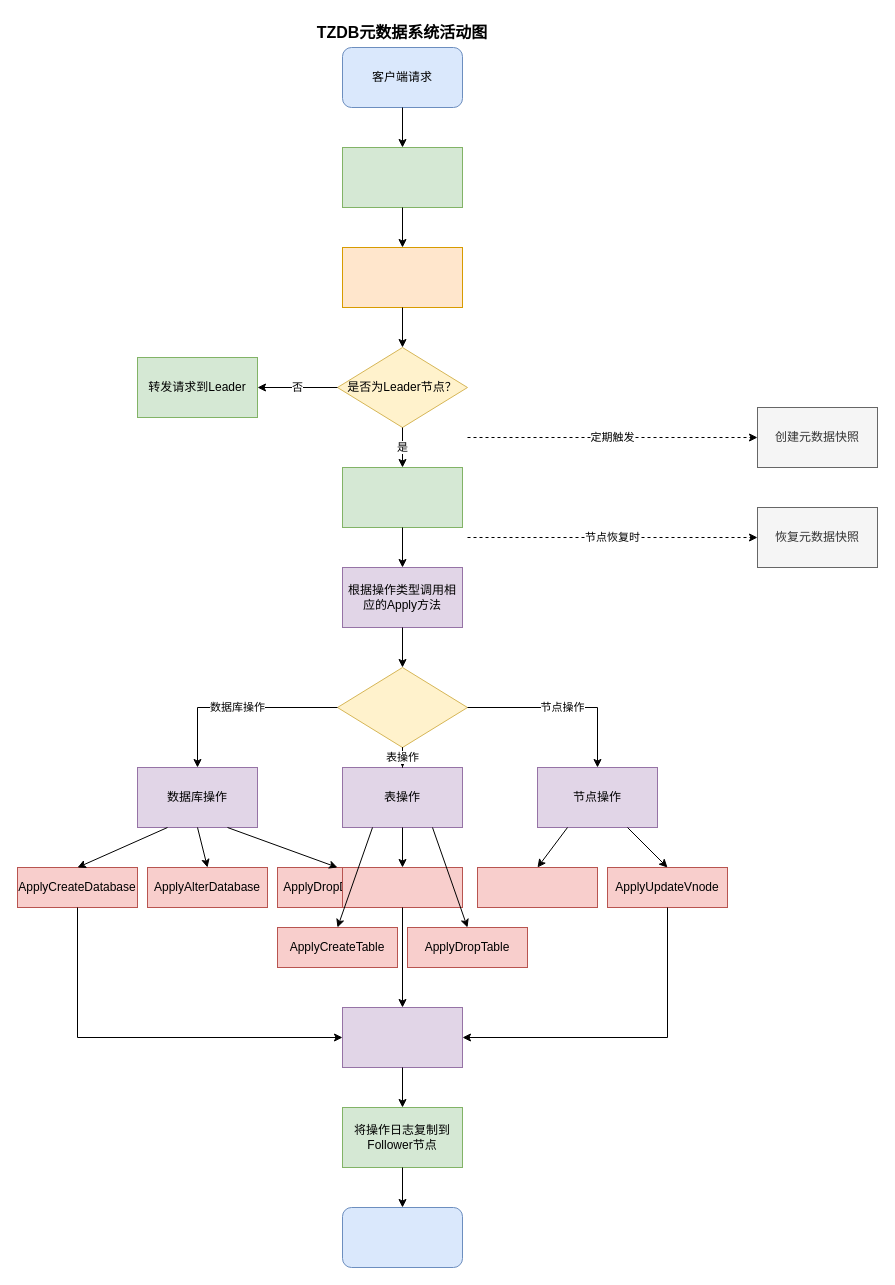
This 895x1285 diagram has some shape labels left out. Each missing label, with the centre of its shape:
"ApplyUpdateNodeInfo" goes at point (537, 887).
"ApplyUpdateTable" goes at point (402, 887).
"CLNode接收请求" goes at point (402, 177).
"Leader应用操作到MetaStatueMachine" goes at point (402, 497).
"创建对应的MetaOperationLog" goes at point (402, 277).
"操作类型判断" goes at point (402, 707).
"更新MetaData" goes at point (402, 1037).
"返回操作结果给客户端" goes at point (402, 1237).
